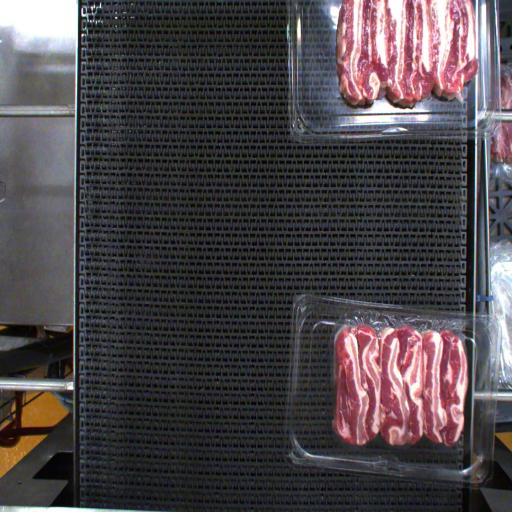unsealed: (328, 302, 480, 382)
